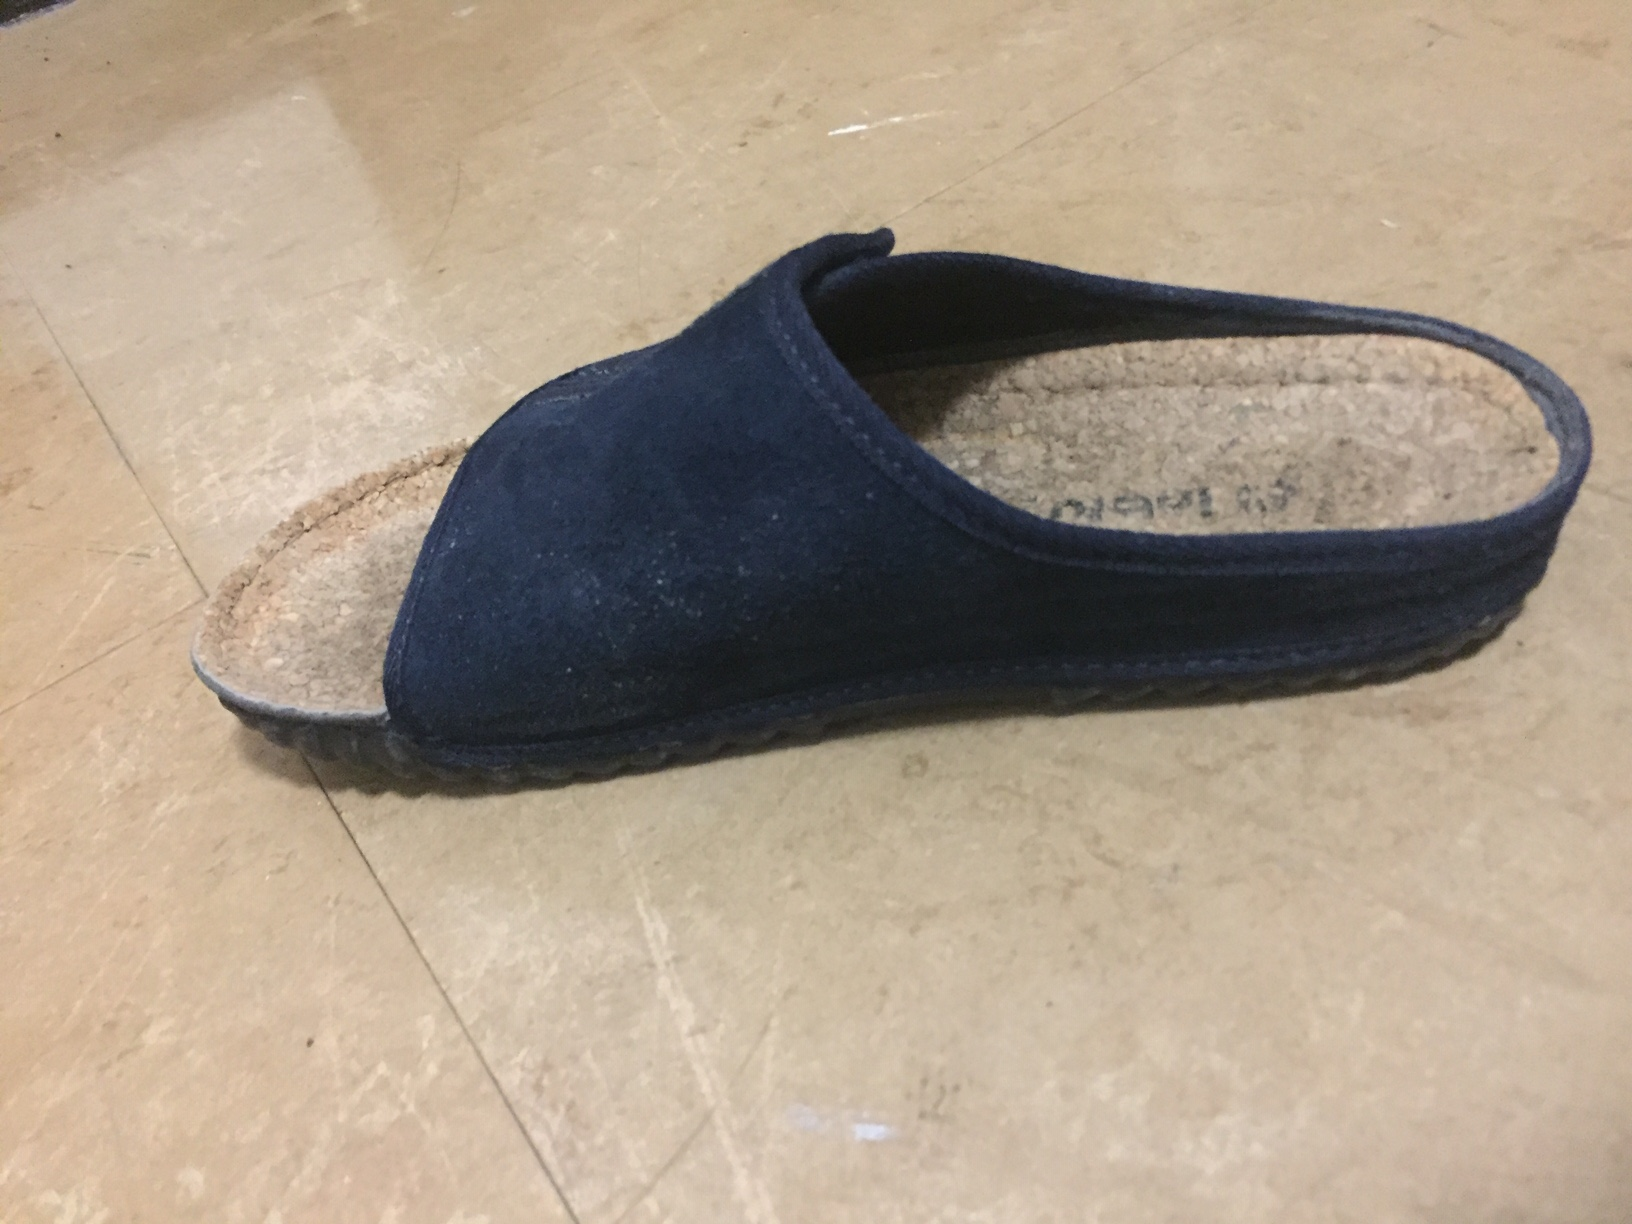car: (179, 228, 1596, 831)
